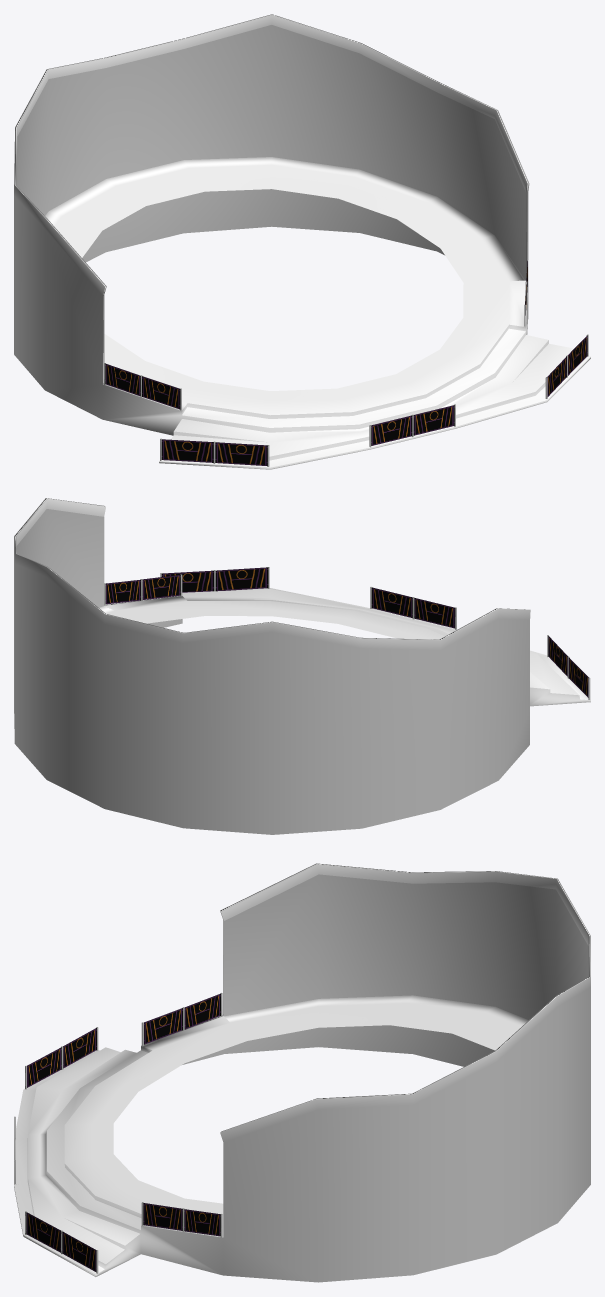
File: plattform_typ01.fbx
3 views of the same model, one above another, from view 1: azimuth 30°, elevation 25°; view 2: azimuth 150°, elevation 25°; view 3: azimuth 270°, elevation 25° (orthographic). The views are drawn at different scales.
Parts seen in each view (by area): view 1: Mesh; view 2: Mesh; view 3: Mesh.
Boxes of the visible parts, x1,y1,x2,y2 form: Mesh: (14, 14, 590, 469); Mesh: (14, 498, 590, 834); Mesh: (14, 863, 590, 1282).
Size of the model in its own units: 2147 by 960 by 2214.
